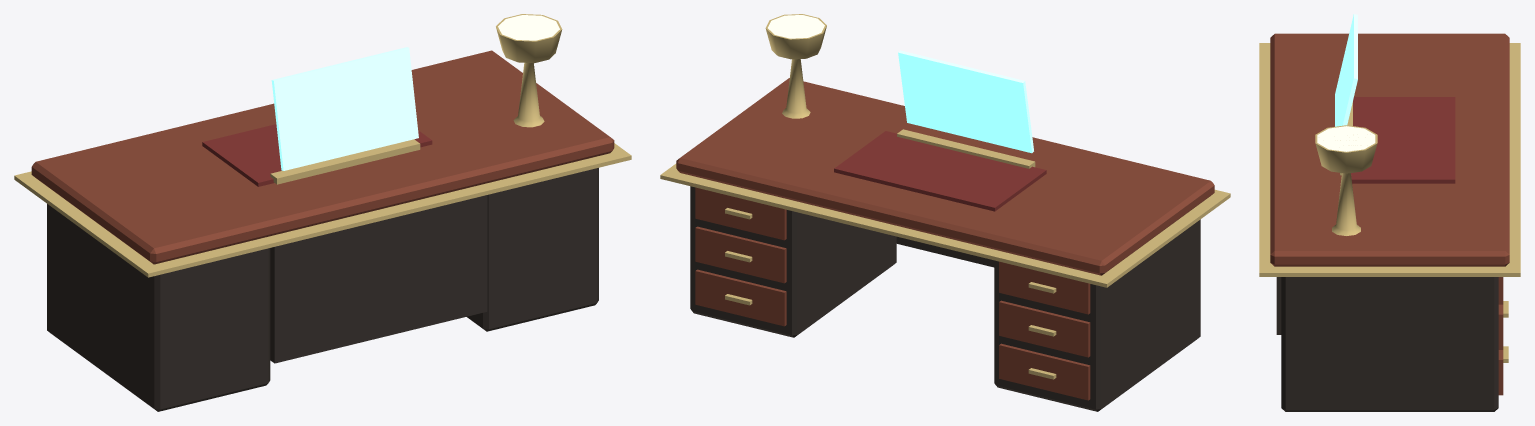
Rendered from ex_desk.glb.
3 views of the same model, side by side, from view 1: azimuth 30°, elevation 25°; view 2: azimuth 150°, elevation 25°; view 3: azimuth 270°, elevation 25° (orthographic). The views are drawn at different scales.
Visible parts, largest first — view 1: ex_desk; view 2: ex_desk; view 3: ex_desk.
Boxes of the visible parts, x1,y1,x2,y2 form: ex_desk: [14, 14, 631, 411]; ex_desk: [660, 14, 1230, 411]; ex_desk: [1259, 14, 1520, 411].
Bounding box in the file's own units: 2.5 × 1.33 × 1.2.
